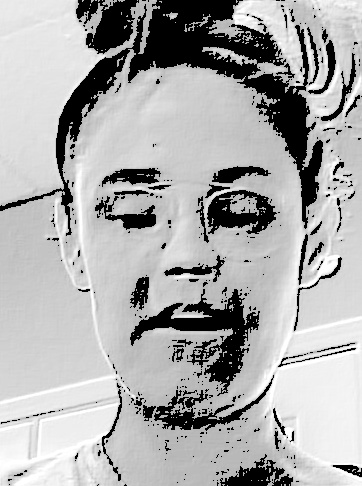nose_M_C: (157, 208, 223, 298)
